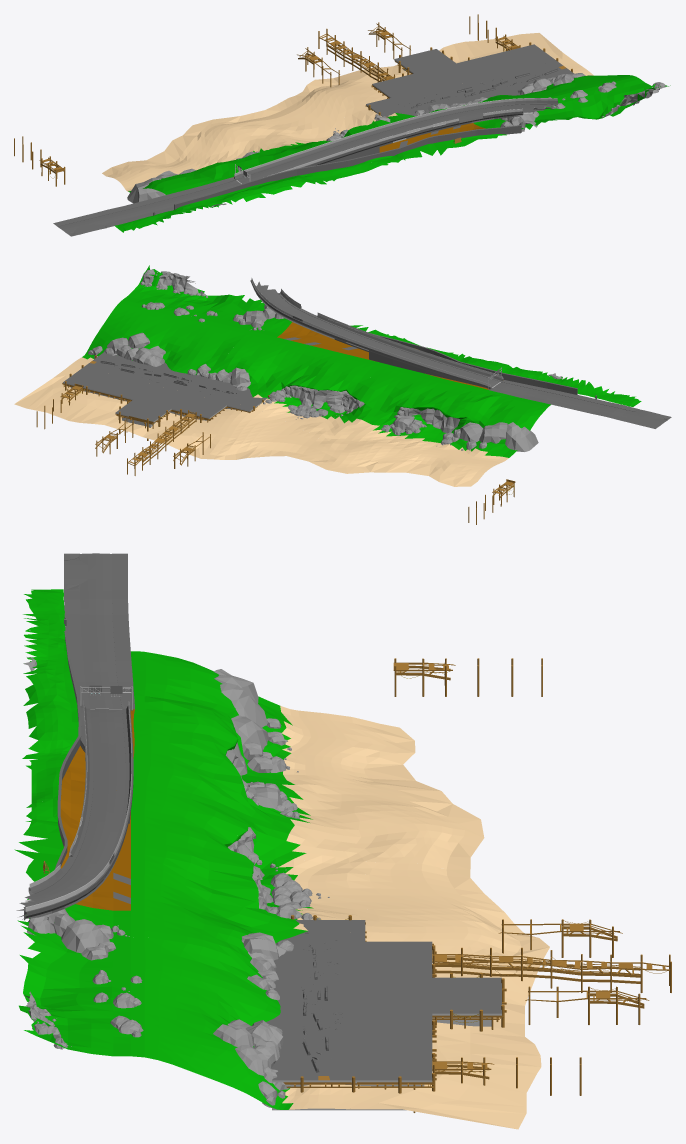
File: bronx_w_9.FBX
3 views of the same model, one above another, from view 1: azimuth 30°, elevation 25°; view 2: azimuth 150°, elevation 25°; view 3: azimuth 270°, elevation 25° (orthographic). The views are drawn at different scales.
Visible parts, largest first — view 1: unnamed, null; view 2: unnamed, null; view 3: unnamed, null.
Boxes of the visible parts, box(x1,y1,x2,y2) form: unnamed: box(14, 14, 577, 236); null: box(437, 61, 670, 129); unnamed: box(14, 288, 671, 524); null: box(67, 265, 277, 393); unnamed: box(14, 553, 671, 1129); null: box(16, 890, 420, 1109).
Size of the model in its own units: 454 by 60.91 by 247.
